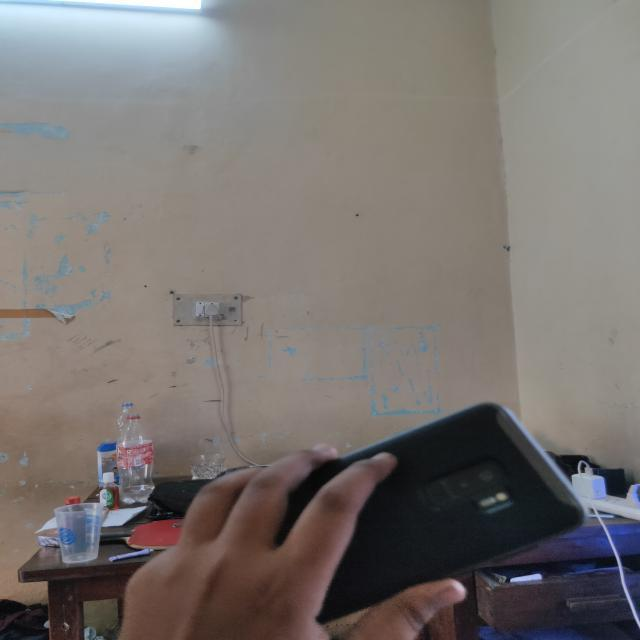Phone: (274, 393, 587, 621)
